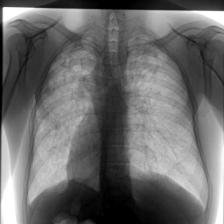tuberculosis: (19, 27, 214, 224)
